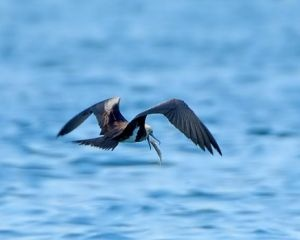bird: (52, 85, 223, 166)
